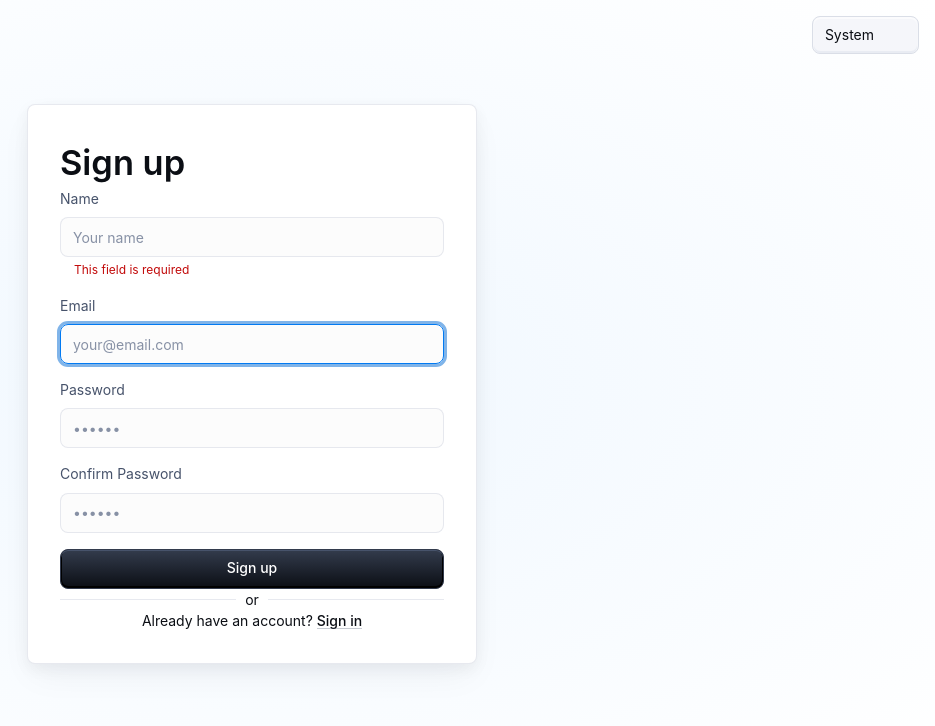
Auth - Sign Up › shows validation errors on empty submit
The width and height of the screenshot is (935, 726).
Click the button with id "sign-up-submit".
click(252, 569)  # box [60,549,444,589]
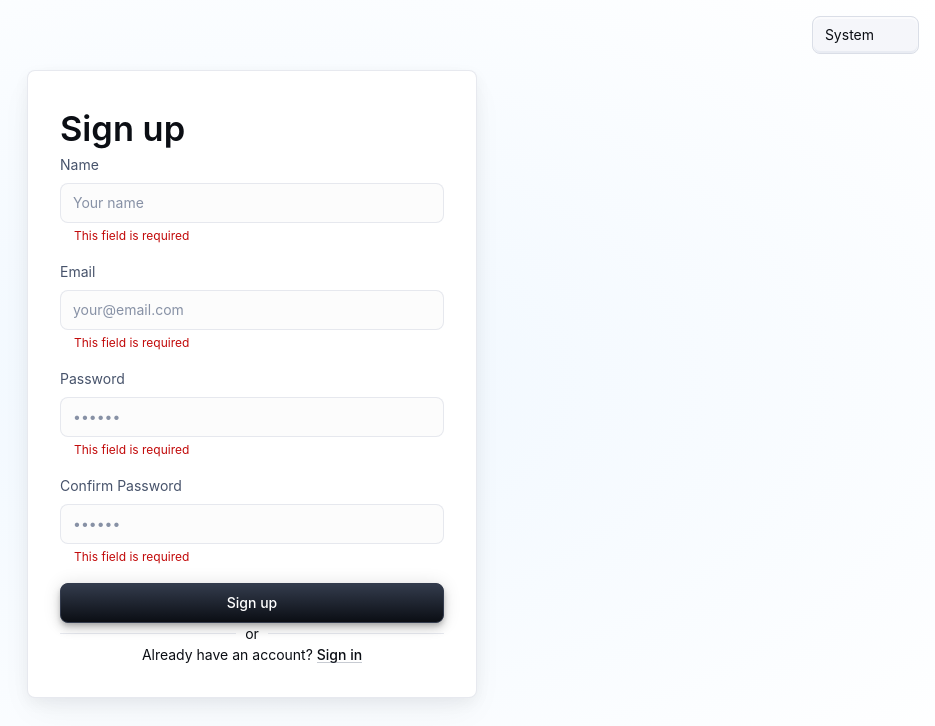
Expected: the text "This field is required" below "Email" is shown, [74,335,189,350]
Expected: the 3rd text "This field is required" is shown, [74,442,189,457]
Expected: the text "This field is required" below "Confirm Password" is shown, [74,549,189,564]
